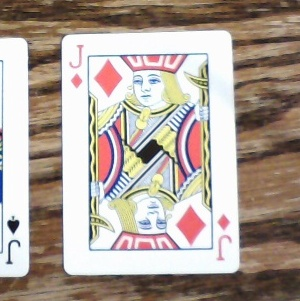card: (60, 27, 240, 274)
